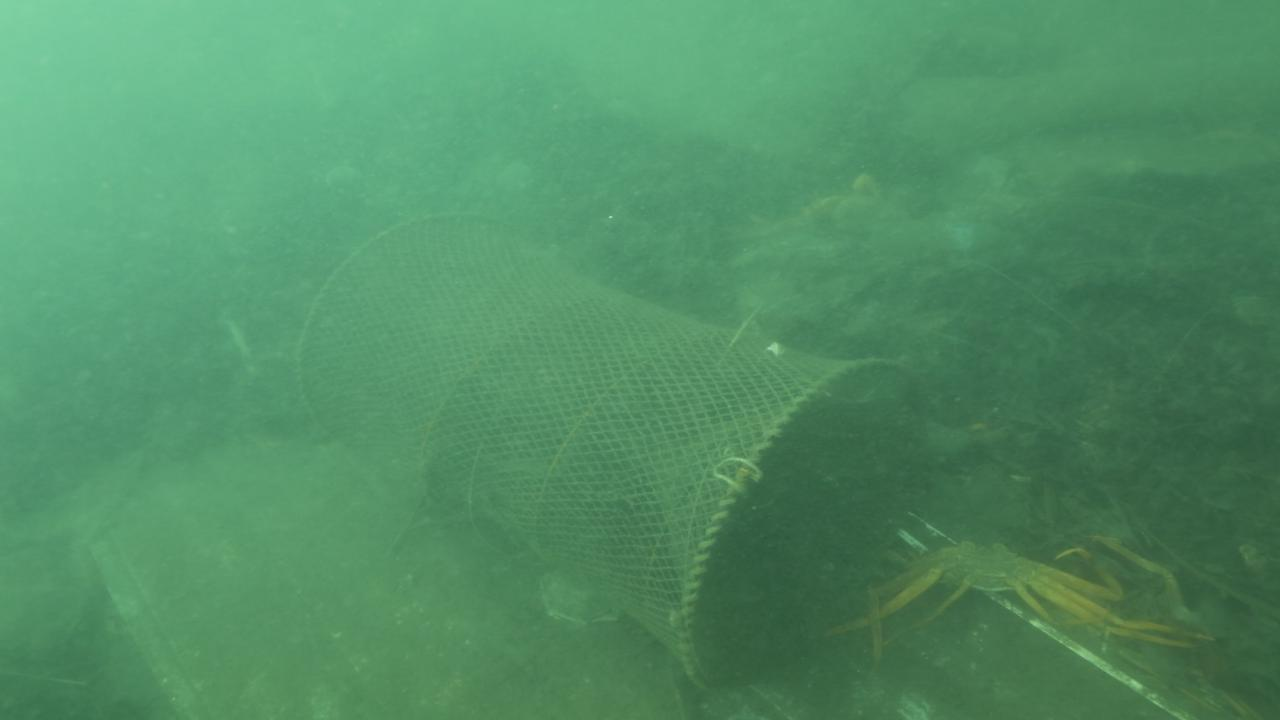spring fish trap: (289, 209, 929, 694)
